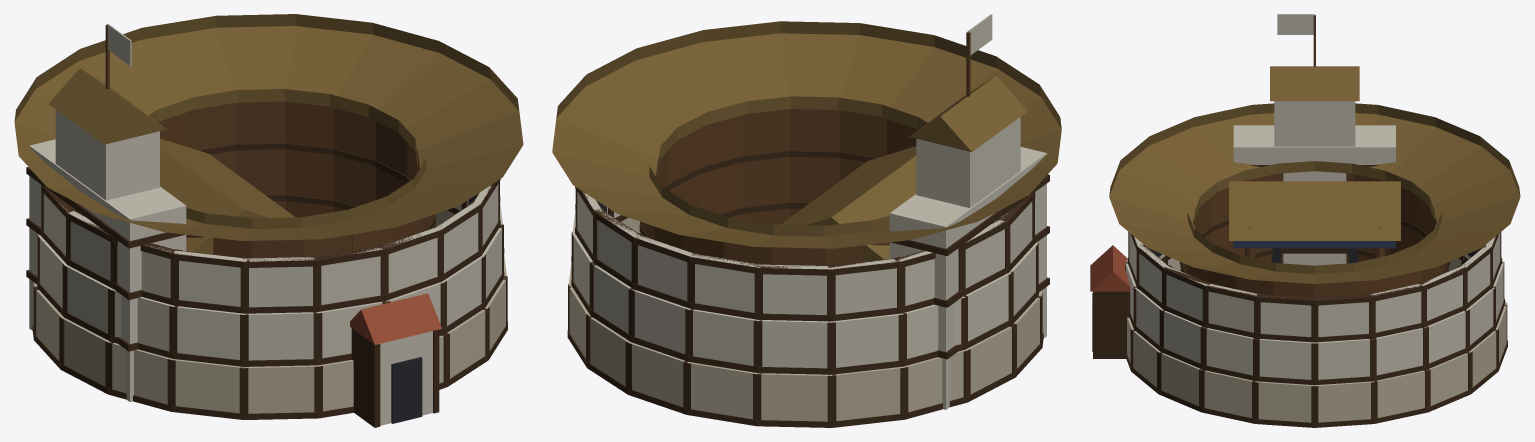
File: globe_theatre.glb
3 views of the same model, side by side, from view 1: azimuth 30°, elevation 25°; view 2: azimuth 150°, elevation 25°; view 3: azimuth 270°, elevation 25° (orthographic). The views are drawn at different scales.
Parts seen in each view (by area): view 1: globe_theatre; view 2: globe_theatre; view 3: globe_theatre.
Part boxes in pixels (x1,y1,x2,y2): globe_theatre: [14, 14, 523, 427]; globe_theatre: [552, 14, 1061, 427]; globe_theatre: [1090, 14, 1520, 427].
Size of the model in its own units: 33 by 23.8 by 34.5.
